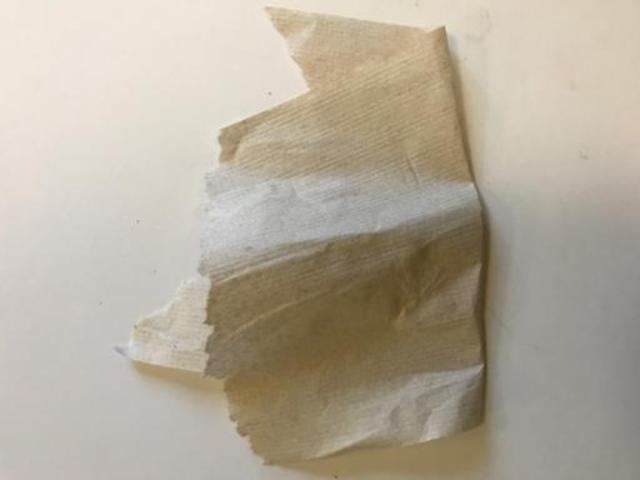cardboard paper: (125, 6, 481, 460)
